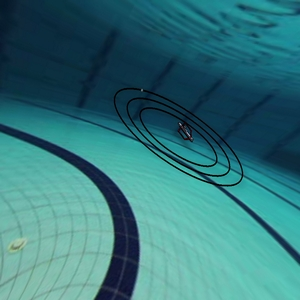circle: (103, 73, 255, 208)
submarine: (162, 112, 202, 153)
